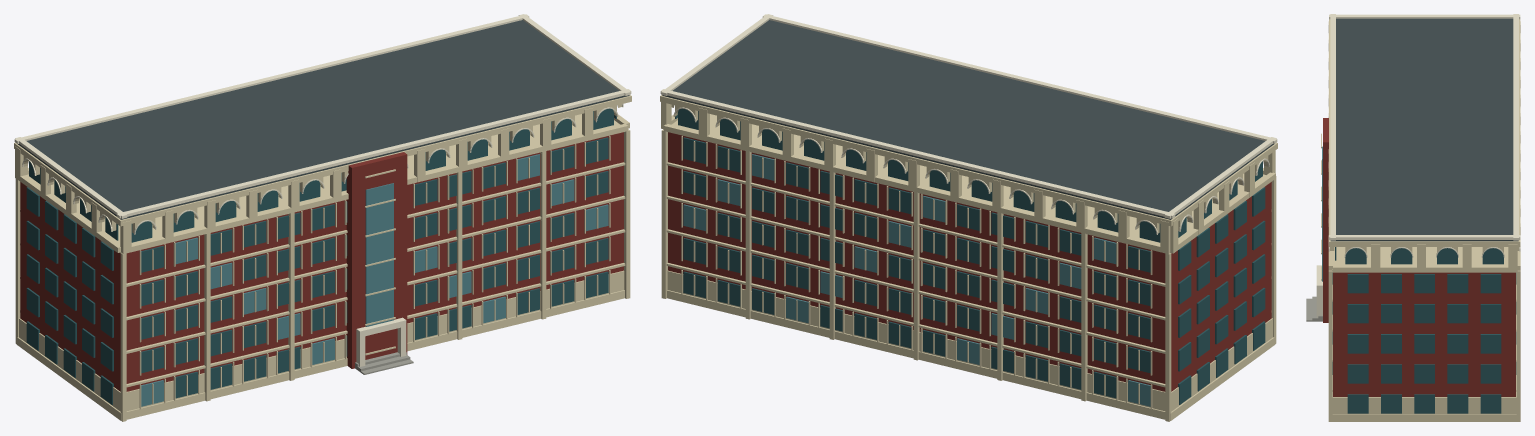
3 renders of one model, left to right at view 1: azimuth 30°, elevation 25°; view 2: azimuth 150°, elevation 25°; view 3: azimuth 270°, elevation 25°, orthographic. The views are drawn at different scales.
Visible parts, largest first — view 1: MainBlock_Roof, MainBlock_Structure, MainBlock_WindowGlass, MainBlock_WindowFrames, MainBlock_SideWindows, MainBlock_RoofCoping, MainBlock_Pilasters, MainBlock_CentralBrickPier, MainBlock_FloorBands, MainBlock_AtticPiers, MainBlock_Plinth, MainBlock_AtticSills (+9 smaller); view 2: MainBlock_Roof, MainBlock_Structure, MainBlock_WindowGlass, MainBlock_WindowFrames, MainBlock_Pilasters, MainBlock_SideWindows, MainBlock_FloorBands, MainBlock_RoofCoping, MainBlock_AtticPiers, MainBlock_Plinth, MainBlock_AtticRecess, MainBlock_AtticSills (+5 smaller); view 3: MainBlock_Roof, MainBlock_Structure, MainBlock_SideWindows, MainBlock_RoofCoping, MainBlock_Cornice, MainBlock_GroundStonework, MainBlock_AtticFloor, MainBlock_Plinth, MainBlock_Pilasters, MainBlock_AtticSills, MainBlock_AtticPiers, MainBlock_AtticRecess (+4 smaller).
Part boxes in pixels (x1=…): MainBlock_Roof: x1=18, y1=20, x2=629, y2=219; MainBlock_Structure: x1=20, y1=132, x2=623, y2=391; MainBlock_WindowGlass: x1=141, y1=137, x2=608, y2=406; MainBlock_WindowFrames: x1=139, y1=136, x2=610, y2=409; MainBlock_SideWindows: x1=26, y1=187, x2=113, y2=404; MainBlock_RoofCoping: x1=14, y1=14, x2=631, y2=218; MainBlock_Pilasters: x1=15, y1=129, x2=630, y2=421; MainBlock_CentralBrickPier: x1=346, y1=152, x2=407, y2=368; MainBlock_FloorBands: x1=20, y1=162, x2=625, y2=387; MainBlock_AtticPiers: x1=15, y1=108, x2=593, y2=253; MainBlock_Plinth: x1=16, y1=290, x2=624, y2=420; MainBlock_AtticSills: x1=20, y1=114, x2=629, y2=252; MainBlock_Roof: x1=662, y1=20, x2=1273, y2=219; MainBlock_Structure: x1=668, y1=132, x2=1271, y2=391; MainBlock_WindowGlass: x1=683, y1=137, x2=1150, y2=406; MainBlock_WindowFrames: x1=681, y1=136, x2=1152, y2=409; MainBlock_Pilasters: x1=661, y1=129, x2=1276, y2=421; MainBlock_SideWindows: x1=1178, y1=187, x2=1265, y2=404; MainBlock_FloorBands: x1=666, y1=162, x2=1271, y2=387; MainBlock_RoofCoping: x1=660, y1=14, x2=1277, y2=218; MainBlock_AtticPiers: x1=661, y1=102, x2=1275, y2=253; MainBlock_Plinth: x1=667, y1=290, x2=1275, y2=420; MainBlock_AtticRecess: x1=675, y1=108, x2=1262, y2=242; MainBlock_AtticSills: x1=663, y1=114, x2=1275, y2=251; MainBlock_Roof: x1=1331, y1=18, x2=1518, y2=241; MainBlock_Structure: x1=1333, y1=272, x2=1515, y2=396; MainBlock_SideWindows: x1=1347, y1=274, x2=1501, y2=413; MainBlock_RoofCoping: x1=1329, y1=14, x2=1520, y2=240; MainBlock_Cornice: x1=1329, y1=19, x2=1520, y2=246; MainBlock_GroundStonework: x1=1332, y1=273, x2=1516, y2=414; MainBlock_AtticFloor: x1=1332, y1=247, x2=1516, y2=272; MainBlock_Plinth: x1=1330, y1=414, x2=1518, y2=421; MainBlock_Pilasters: x1=1328, y1=270, x2=1520, y2=421; MainBlock_AtticSills: x1=1328, y1=251, x2=1520, y2=272; MainBlock_AtticPiers: x1=1328, y1=21, x2=1520, y2=272; MainBlock_AtticRecess: x1=1335, y1=247, x2=1503, y2=264.
Size of the model in its own units: 62.37 by 23.94 by 25.18.
